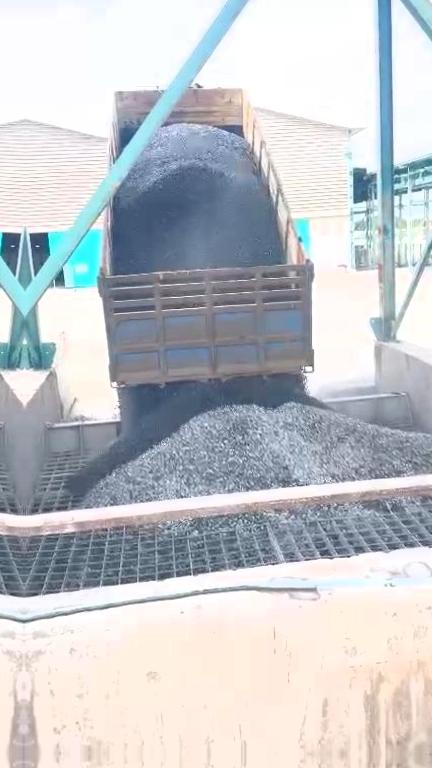gravel: (71, 376, 432, 507), (115, 124, 284, 273), (207, 514, 259, 530)
